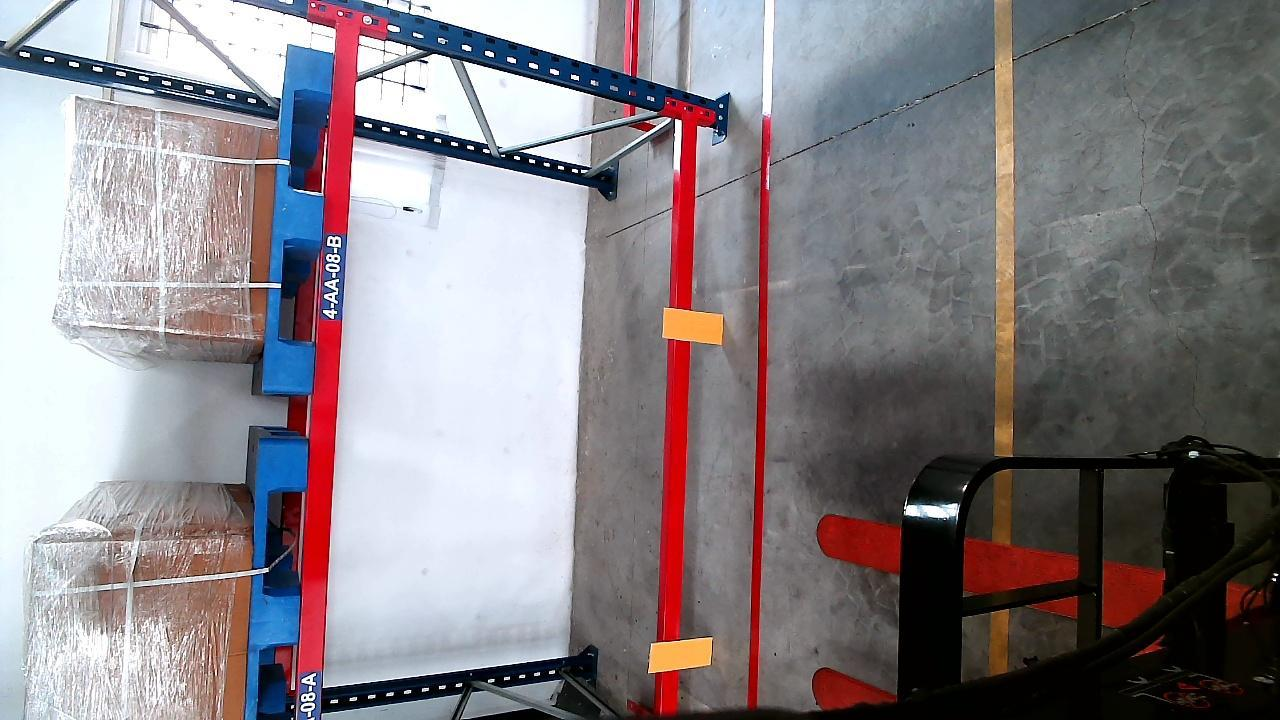red_line: (741, 113, 780, 704)
yellow_line: (994, 3, 1020, 468)
